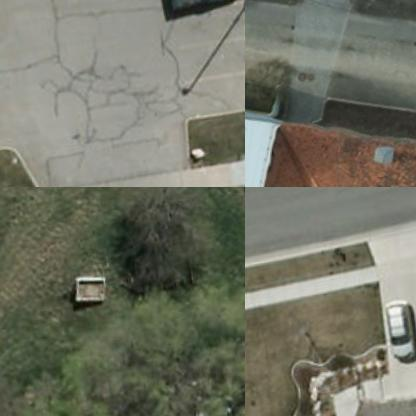car: (384, 296, 415, 361)
pickup: (163, 0, 242, 16)
